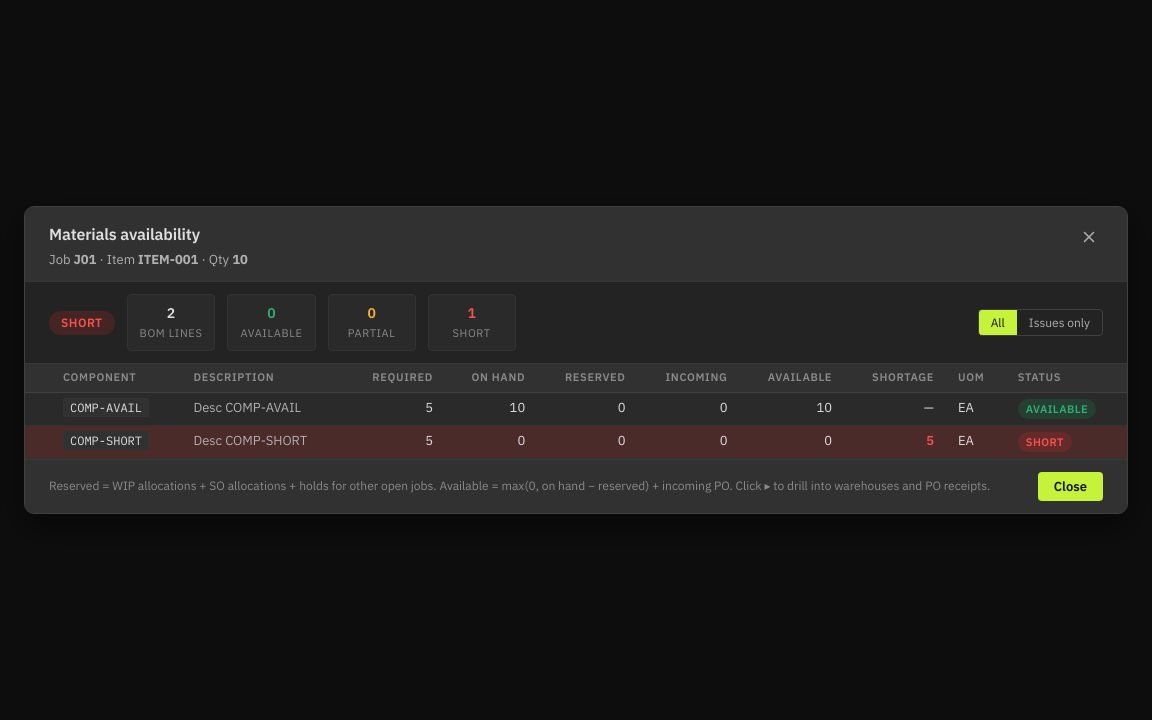
Test: BomDetailModal › "Issues only" filter hides Available lines; "All" shows them again
Expected: the text "COMP-AVAIL" is shown, [63,398,149,417]
Expected: the text "COMP-SHORT" is shown, [63,431,149,450]
// Switch to "Issues only" — Available line should disappear
Click the button "Issues only" at (1059, 322), box [1017,310,1102,335]
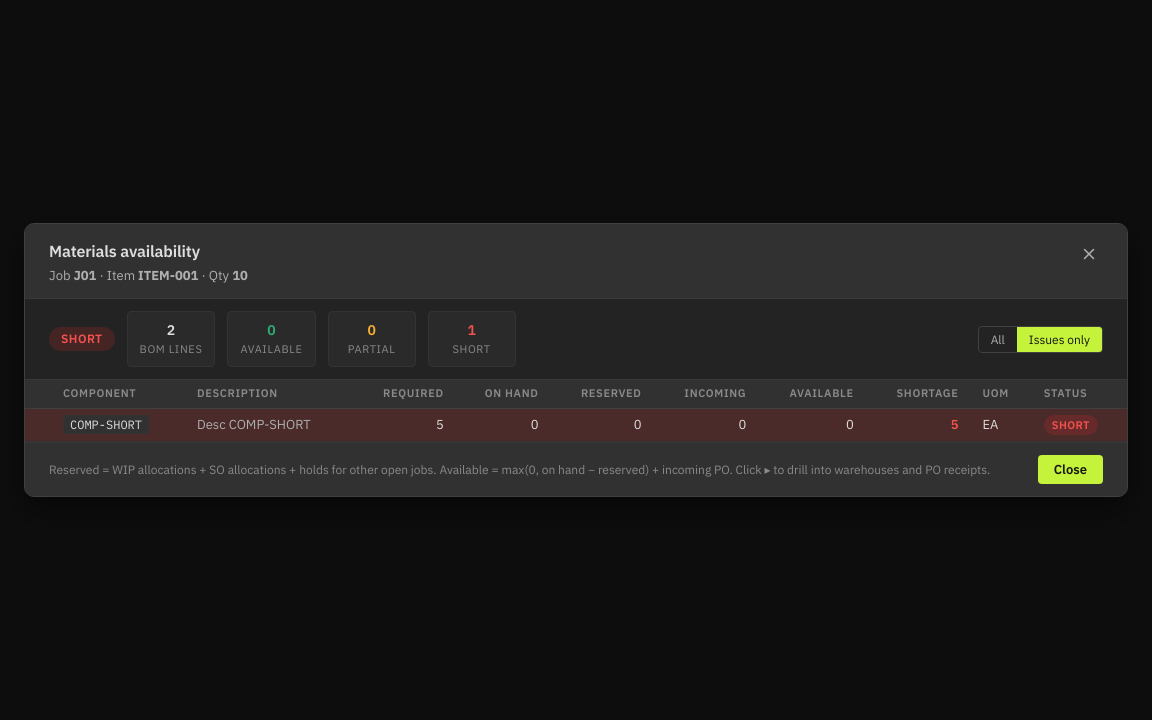
Expected: the text "COMP-SHORT" is shown, [63,415,149,434]
Result: the text "COMP-AVAIL" is gone
// Switch back to "All" — Available line returns
Click the button "All" at (998, 339), box [979,326,1017,352]
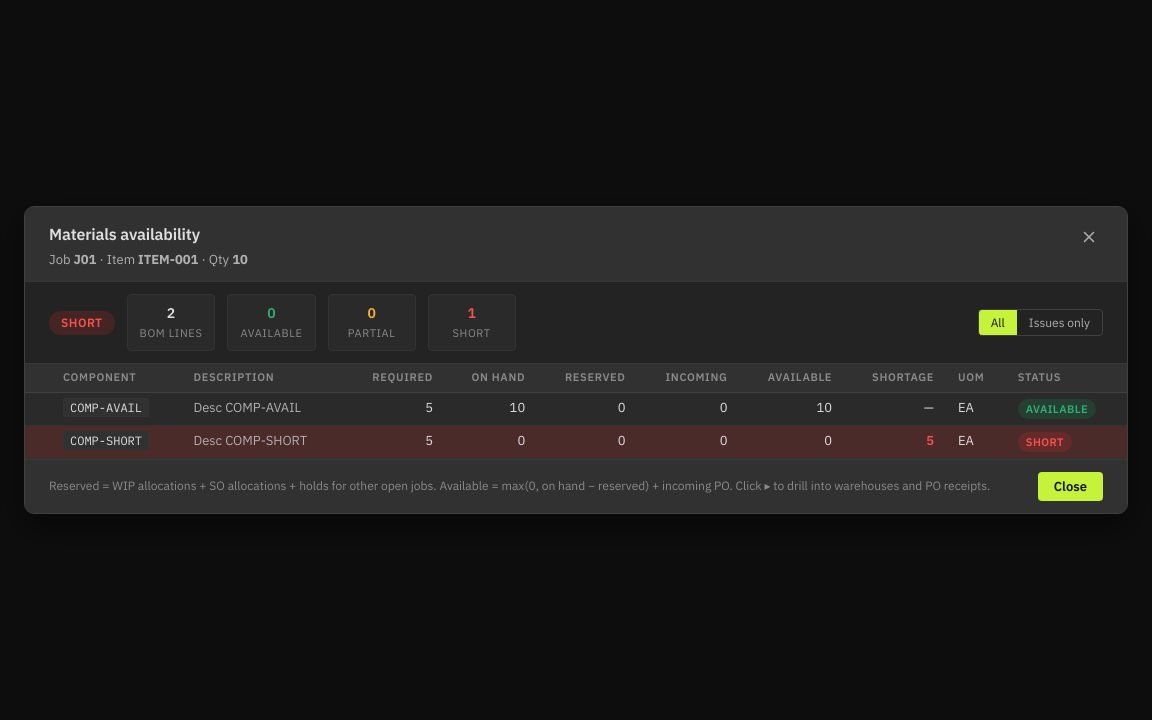
Result: the text "COMP-AVAIL" is shown at [63,398,149,417]
